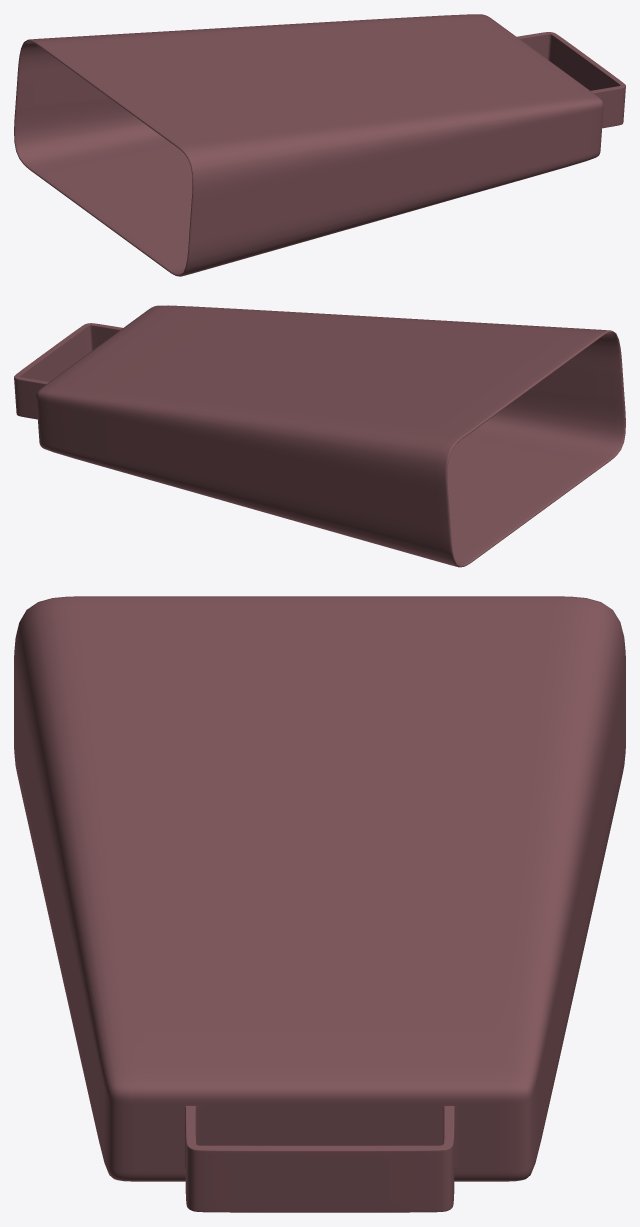
File: asdf.fbx
3 views of the same model, one above another, from view 1: azimuth 30°, elevation 25°; view 2: azimuth 150°, elevation 25°; view 3: azimuth 270°, elevation 25° (orthographic). The views are drawn at different scales.
Visible parts, largest first — view 1: Cube; view 2: Cube; view 3: Cube.
Part boxes in pixels (bbox=[...]): Cube: bbox=[14, 14, 625, 276]; Cube: bbox=[14, 305, 625, 567]; Cube: bbox=[14, 596, 625, 1212].
Bounding box in the file's own units: 19.75 × 4.83 × 12.17.
